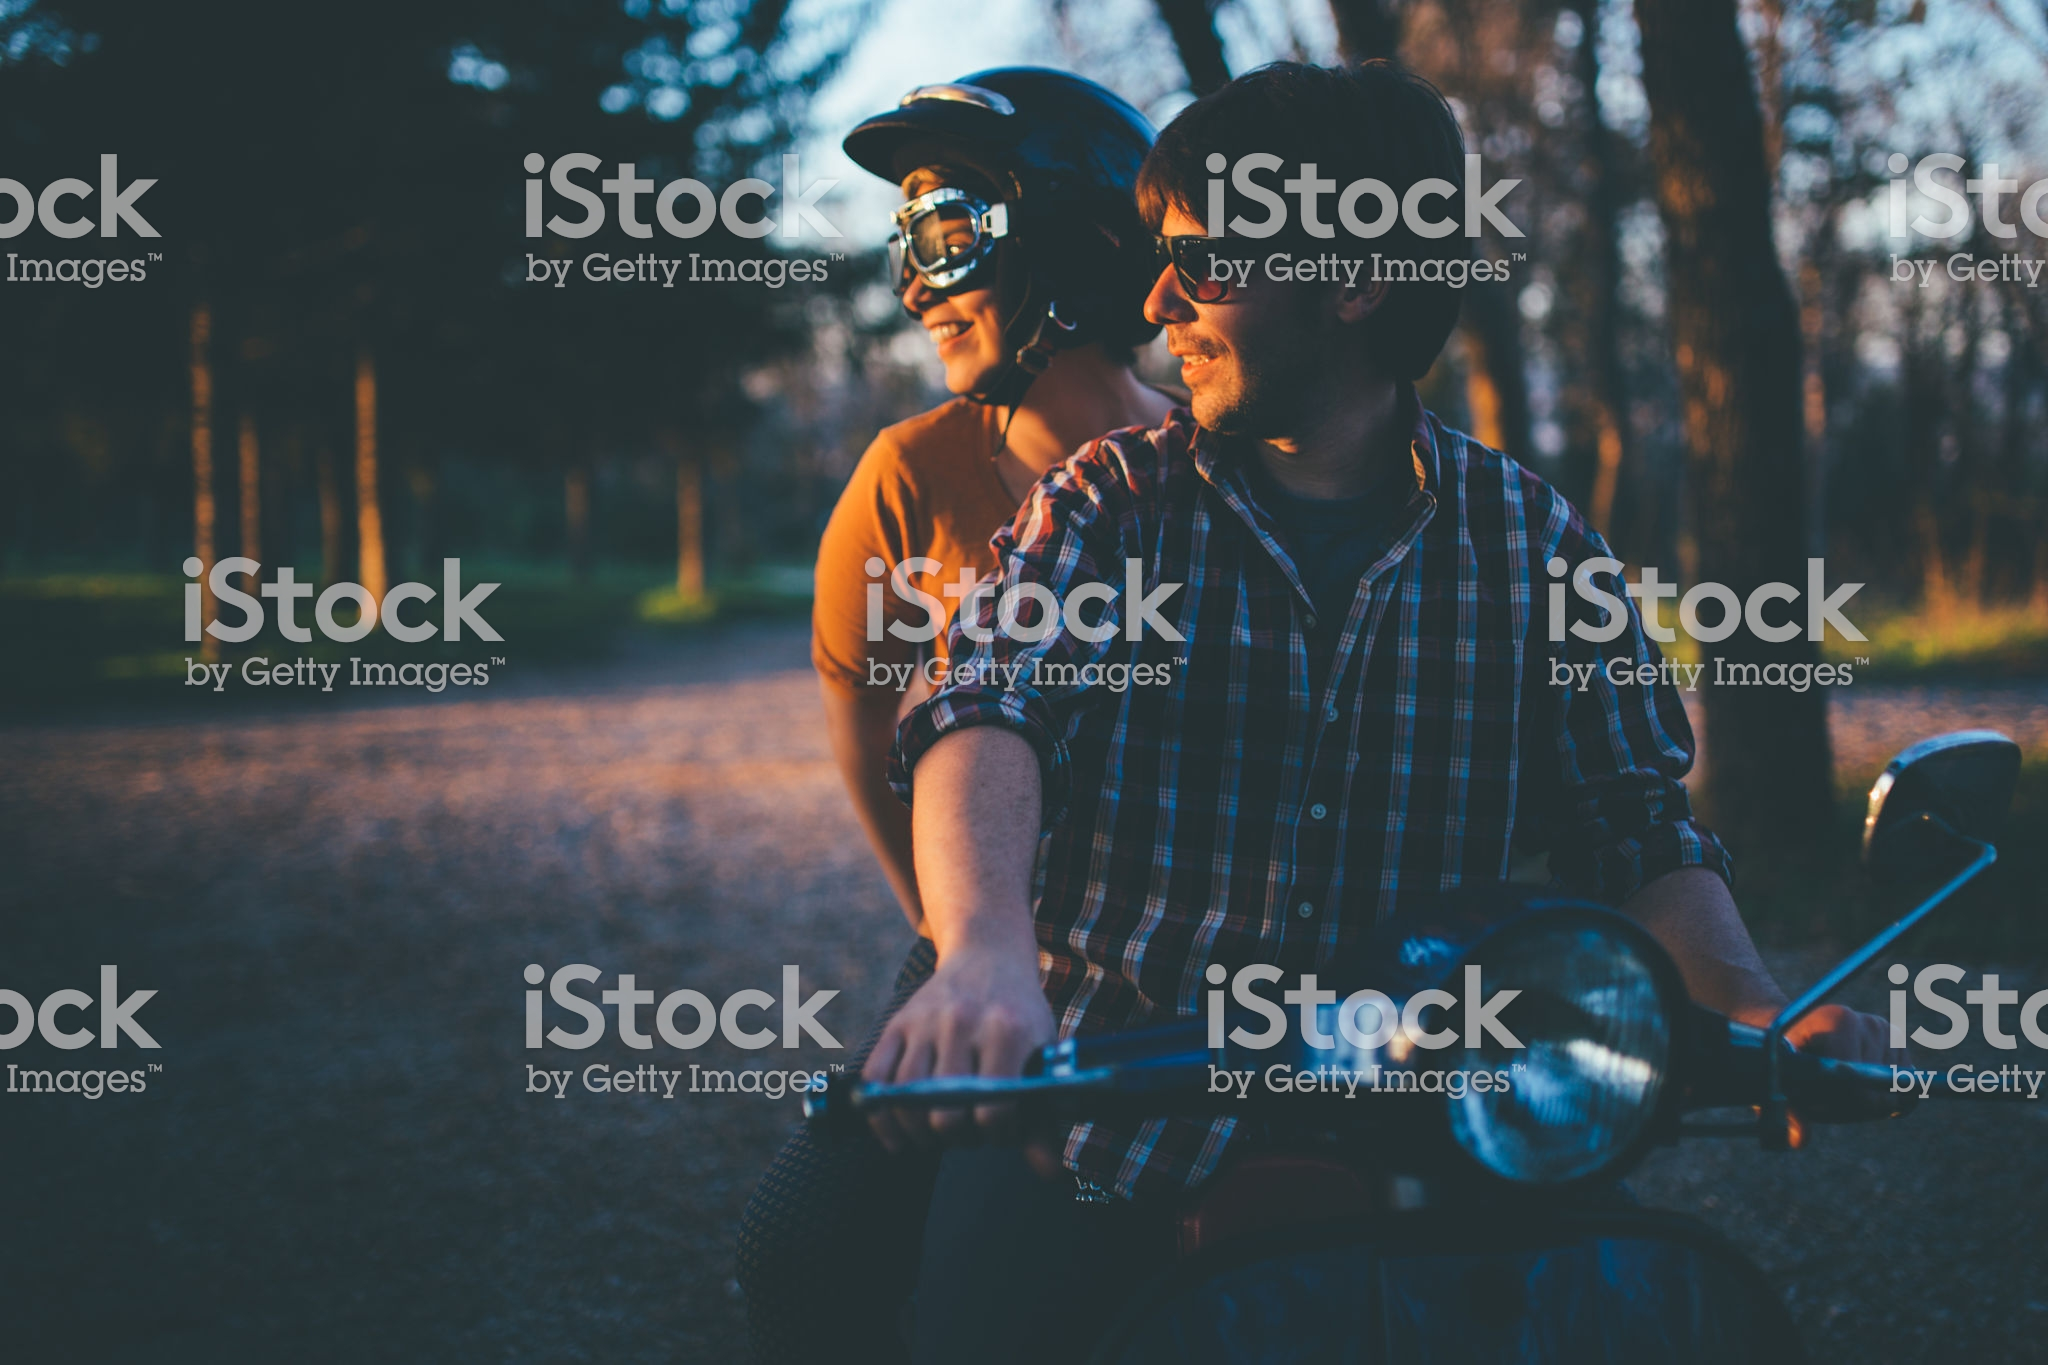helmet: (863, 66, 1171, 232)
